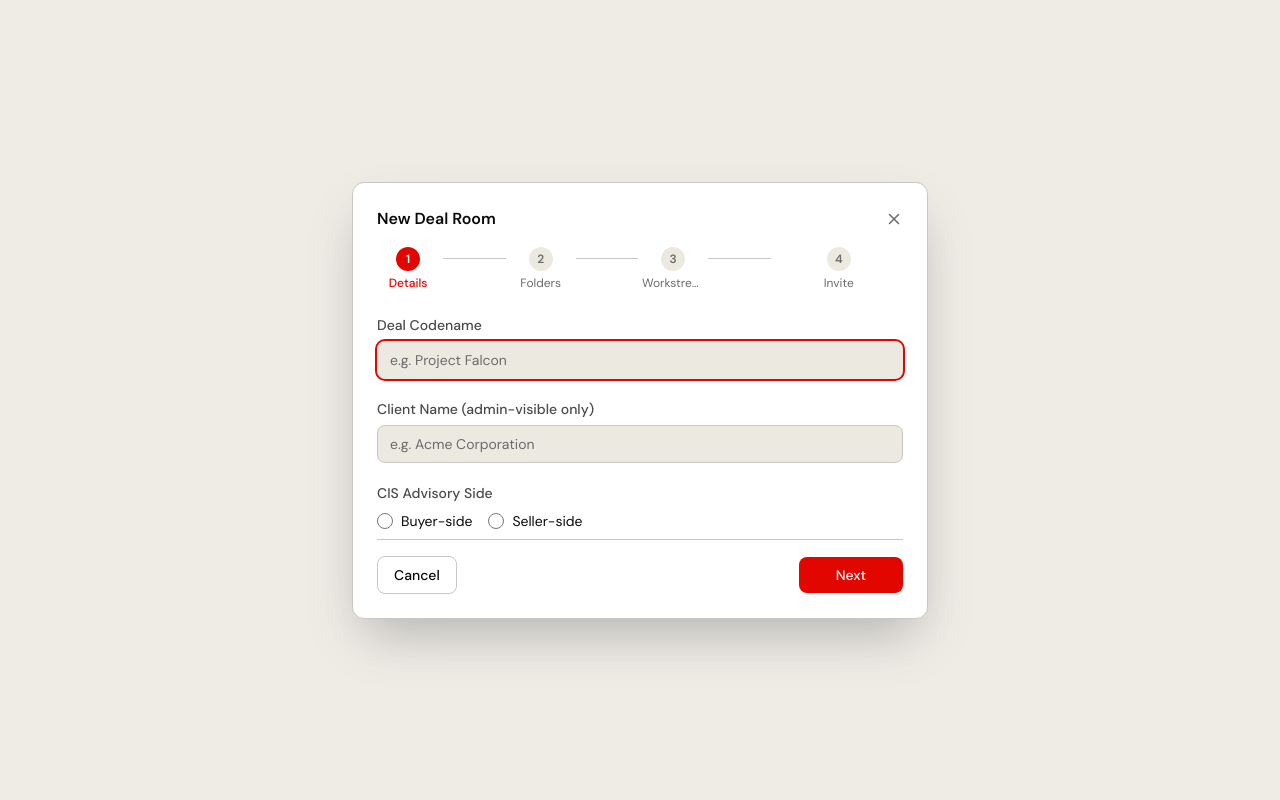
Test case: NewDealWizard › advances to the Folders step after filling Details and clicking Next
// Fill codename
In the field labelled "Deal Codename": (640, 360) [377, 340, 903, 378], type "Project Falcon"
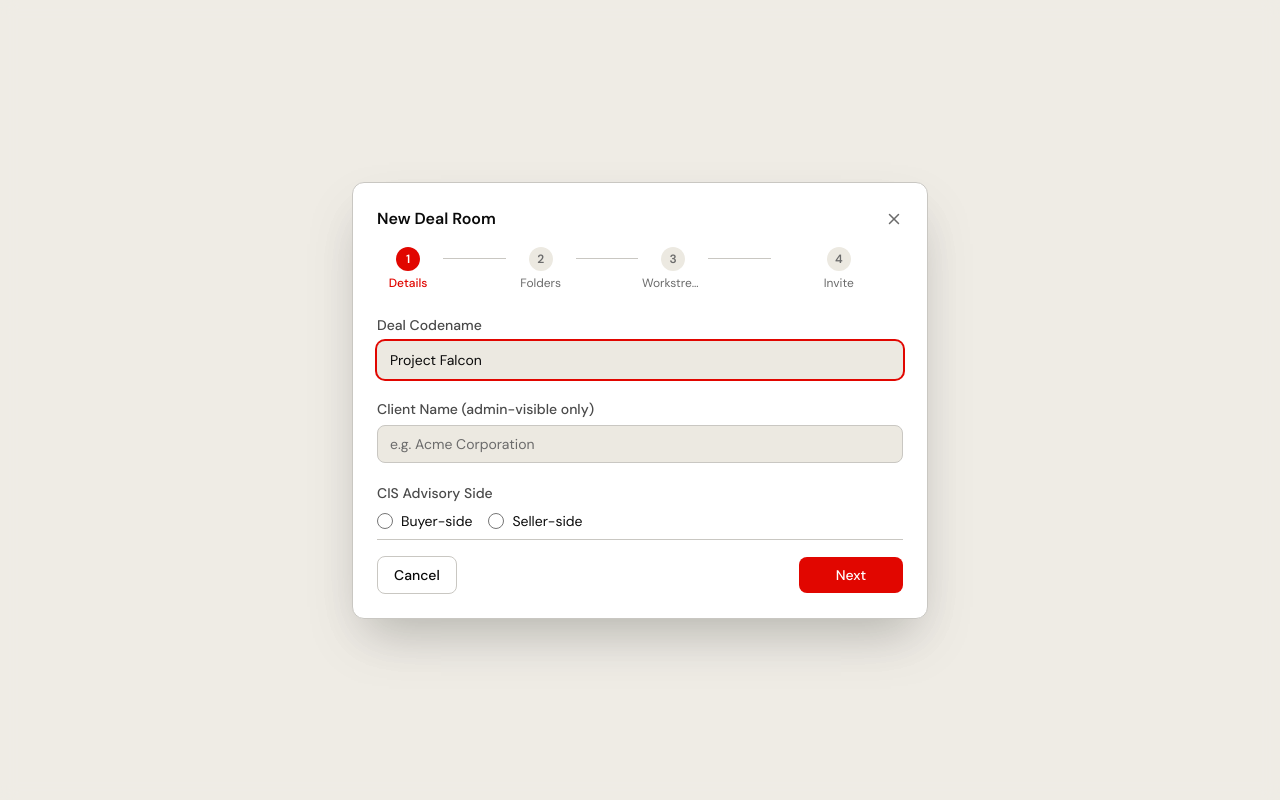
// Fill client name
In the field labelled "Client Name (admin-visible only)": (640, 444) [377, 424, 903, 462], type "Acme Corp"
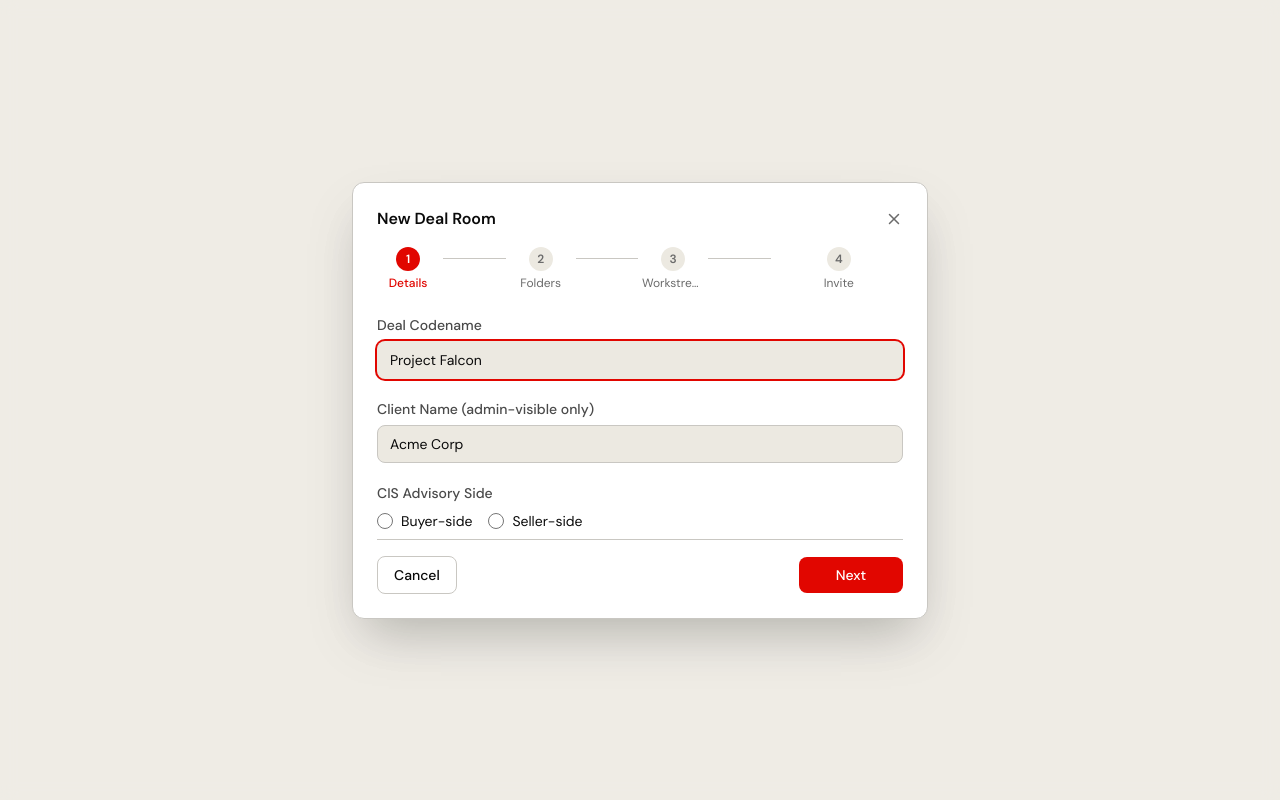
// Select advisory side
Click the radio button labelled "Seller-side": (496, 520) [488, 512, 504, 528]
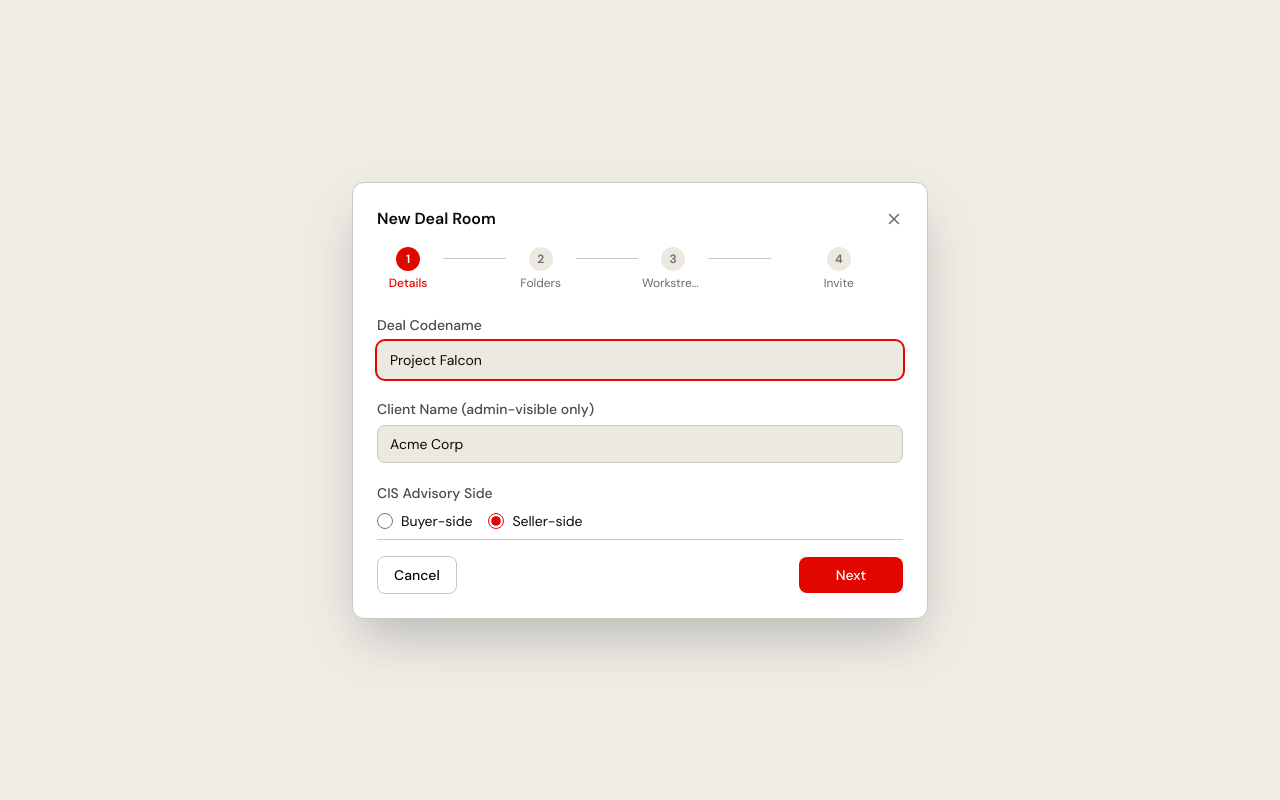
// Click Next (primary action on Details step)
Click the button "Next": (851, 574) [799, 556, 903, 592]
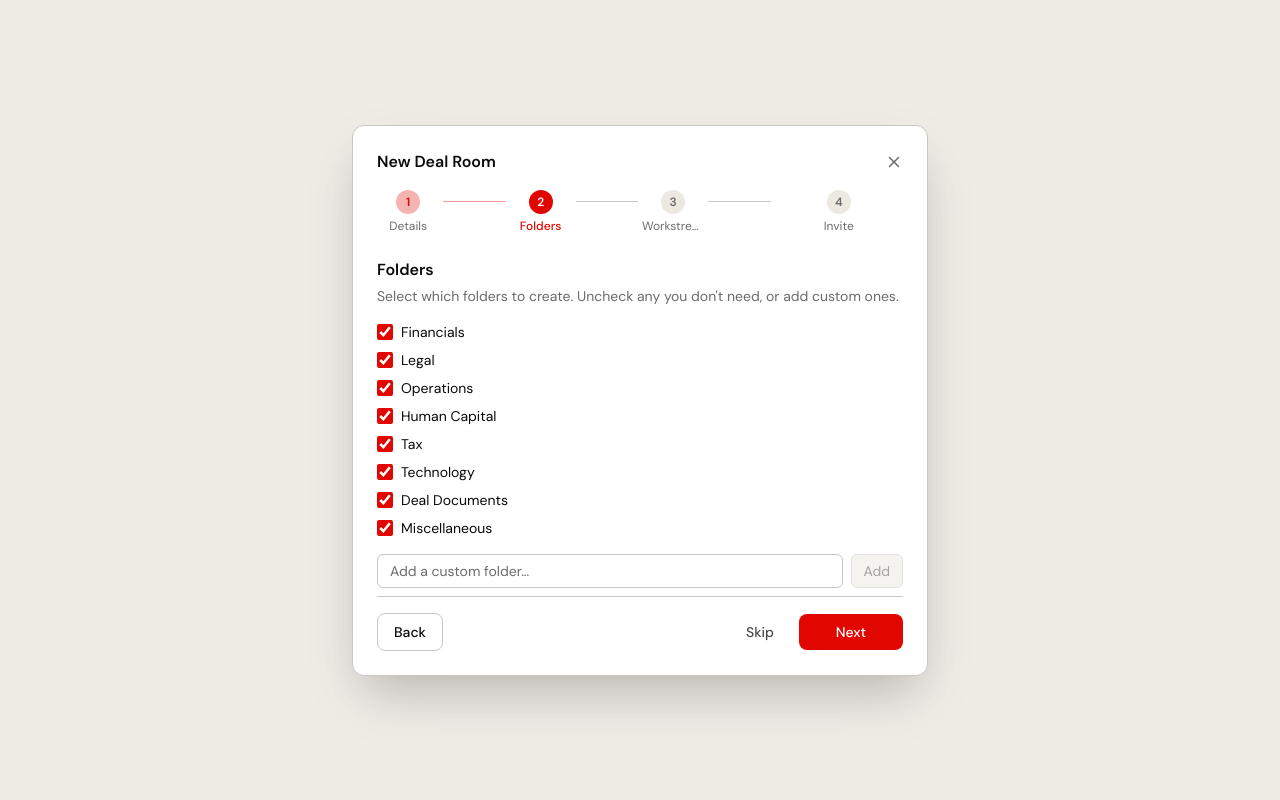
Result: the heading "Folders" is shown at [377, 258, 434, 280]
